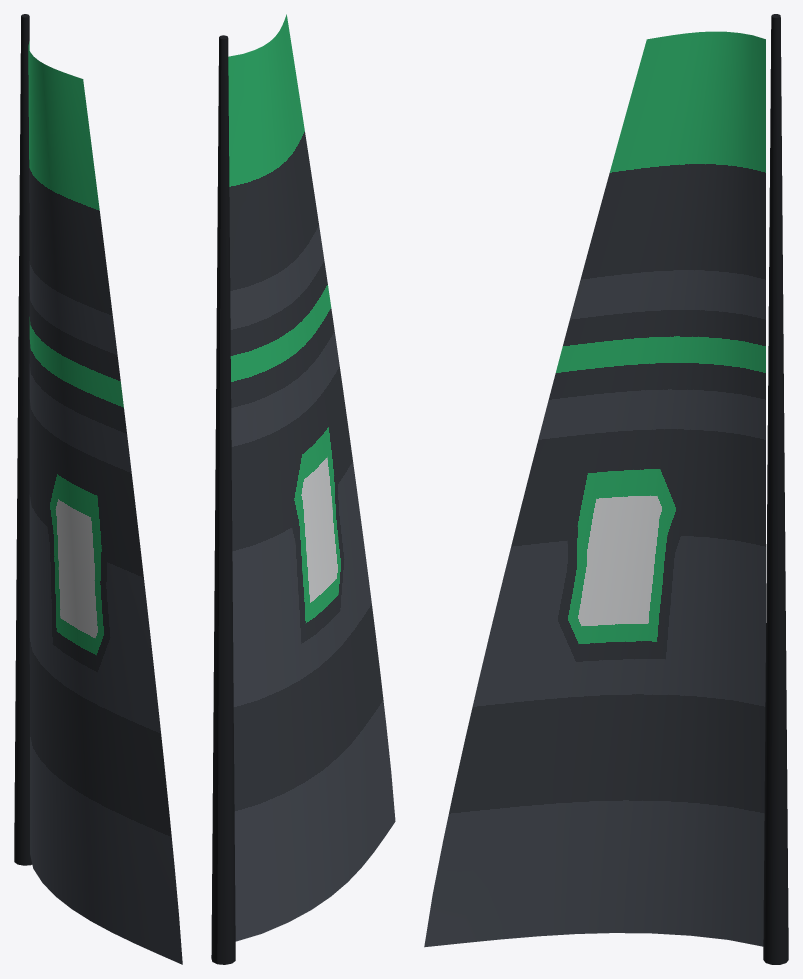
Rendered from rig_3_p.glb.
The picture shows the model from 3 angles, left to right: view 1: azimuth 30°, elevation 25°; view 2: azimuth 150°, elevation 25°; view 3: azimuth 270°, elevation 25°; orthographic projection. The views are drawn at different scales.
Parts seen in each view (by area): view 1: rig_3_p_body; view 2: rig_3_p_body; view 3: rig_3_p_body.
Boxes of the visible parts, <box> form: rig_3_p_body: <box>14,14,182,964</box>; rig_3_p_body: <box>211,14,395,964</box>; rig_3_p_body: <box>424,14,788,964</box>.
Size of the model in its own units: 1.15 by 26.2 by 9.17.
1 material, 1 textured.
